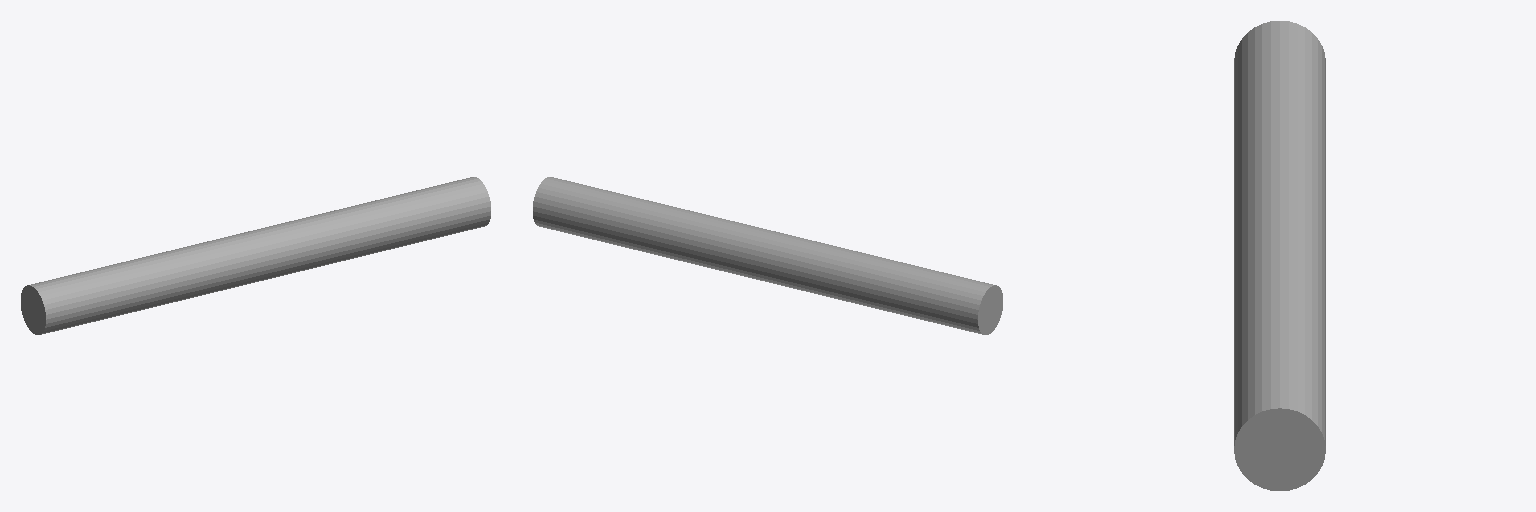
The robot description file, URDF, robot "lbr_iiwa_sdh":
<?xml version="1.0" ?>
<!-- ======================================================================= -->
<!-- | This document was autogenerated by xacro from lbr_iiwa.urdf.xacro   | -->
<!-- | Original xacro: https://github.com/rtkg/lbr_iiwa/archive/master.zip | -->
<!-- | EDITING THIS FILE BY HAND IS NOT RECOMMENDED                        | -->
<!-- | Changes ([author]):                                                 | -->
<!-- |   * Removed gazebo tags.                                            | -->
<!-- |   * Removed unused materials.                                       | -->
<!-- |   * Made mesh paths relative.                                       | -->
<!-- |   * Removed material fields from collision segments.                | -->
<!-- |   * Removed the self_collision_checking segment.                    | -->
<!-- |   * Removed transmission segments, since they didn't match the      | -->
<!-- |     convention, will have to added back later.                      | -->
<!-- ======================================================================= -->
<!--LICENSE:                                                                 -->
<!--Copyright (c) 2015, [author] & [author], AASS Research Center,  -->
<!--Orebro University, Sweden                                                -->
<!--All rights reserved.                                                     -->
<!--                                                                         -->
<!--Redistribution and use in source and binary forms, with or without       -->
<!--modification, are permitted provided that the following conditions are   -->
<!--met:                                                                     -->
<!--                                                                         -->
<!--1. Redistributions of source code must retain the above copyright notice,-->
<!--   this list of conditions and the following disclaimer.                 -->
<!--                                                                         -->
<!--2. Redistributions in binary form must reproduce the above copyright     -->
<!--   notice, this list of conditions and the following disclaimer in the   -->
<!--   documentation and/or other materials provided with the distribution.  -->
<!--                                                                         -->
<!--THIS SOFTWARE IS PROVIDED BY THE COPYRIGHT [author] "AS  -->
<!--IS" AND ANY EXPRESS OR IMPLIED WARRANTIES, INCLUDING, BUT NOT LIMITED TO,-->
<!--THE IMPLIED WARRANTIES OF MERCHANTABILITY AND FITNESS FOR A PARTICULAR   -->
<!--PURPOSE ARE DISCLAIMED. IN NO EVENT SHALL THE COPYRIGHT [author]        -->
<!--CONTRIBUTORS BE LIABLE FOR ANY DIRECT, INDIRECT, INCIDENTAL, SPECIAL,    -->
<!--EXEMPLARY, OR CONSEQUENTIAL DAMAGES (INCLUDING, BUT NOT LIMITED TO,      -->
<!--PROCUREMENT OF SUBSTITUTE GOODS OR SERVICES; LOSS OF USE, DATA, OR       -->
<!--PROFITS; OR BUSINESS INTERRUPTION) HOWEVER CAUSED AND ON ANY THEORY OF   -->
<!--LIABILITY, WHETHER IN CONTRACT, STRICT LIABILITY, OR TORT (INCLUDING     -->
<!--NEGLIGENCE OR OTHERWISE) ARISING IN ANY WAY OUT OF THE USE OF THIS       -->
<!--SOFTWARE, EVEN IF ADVISED OF THE POSSIBILITY OF SUCH DAMAGE.             -->
<robot name="lbr_iiwa_sdh" xmlns:xacro="http://www.ros.org/wiki/xacro">
  <!-- Import Rviz colors -->
  <material name="Grey">
    <color rgba="0.2 0.2 0.2 1.0"/>
  </material>
  <material name="Orange">
    <color rgba="1.0 0.423529411765 0.0392156862745 1.0"/>
  </material>
  <material name="Blue">
  <color rgba="0.5 0.7 1.0 1.0"/>      
</material>

  <!--Import the lbr iiwa macro -->
  <!--Import Transmissions -->
  <!--Include Utilities -->
  <!--The following macros are adapted from the LWR 4 definitions of the RCPRG - https://github.com/RCPRG-ros-pkg/lwr_robot -->
  <!--Little helper macros to define the inertia matrix needed for links.-->
  <!--Cuboid-->
  <!--Cylinder: length is along the y-axis! -->
  <!--lbr-->
  <link name="lbr_iiwa_link_0">
    <inertial>
      <origin rpy="0 0 0" xyz="-0.1 0 0.07"/>
      <!--Increase mass from 5 Kg original to provide a stable base to carry the
          arm.-->
      <mass value="0.0"/>
      <inertia ixx="0.05" ixy="0" ixz="0" iyy="0.06" iyz="0" izz="0.03"/>
    </inertial>
    <visual>
      <origin rpy="0 0 0" xyz="0 0 0"/>
      <geometry>
        <mesh filename="meshes_kuka/link_0.obj"/>
      </geometry>
      <material name="Grey"/>
    </visual>
    <collision>
      <origin rpy="0 0 0" xyz="0 0 0"/>
      <geometry>
        <mesh filename="meshes_kuka/link_0.stl"/>
      </geometry>
    </collision>
  </link>
  <!-- joint between link_0 and link_1 -->
  <joint name="lbr_iiwa_joint_1" type="revolute">
    <parent link="lbr_iiwa_link_0"/>
    <child link="lbr_iiwa_link_1"/>
    <origin rpy="0 0 0" xyz="0 0 0.1575"/>
    <axis xyz="0 0 1"/>
    <limit effort="300" lower="-2.96705972839" upper="2.96705972839" velocity="10"/>
    <dynamics damping="0.5"/>
  </joint>
  <link name="lbr_iiwa_link_1">
    <inertial>
      <origin rpy="0 0 0" xyz="0 -0.03 0.12"/>
      <mass value="4"/>
      <inertia ixx="0.1" ixy="0" ixz="0" iyy="0.09" iyz="0" izz="0.02"/>
    </inertial>
    <visual>
      <origin rpy="0 0 0" xyz="0 0 0"/>
      <geometry>
        <mesh filename="meshes_kuka/link_1.obj"/>
      </geometry>
      <material name="Blue"/>
    </visual>
    <collision>
      <origin rpy="0 0 0" xyz="0 0 0"/>
      <geometry>
        <mesh filename="meshes_kuka/link_1.stl"/>
      </geometry>
    </collision>
  </link>
  <!-- joint between link_1 and link_2 -->
  <joint name="lbr_iiwa_joint_2" type="revolute">
    <parent link="lbr_iiwa_link_1"/>
    <child link="lbr_iiwa_link_2"/>
    <origin rpy="1.57079632679   0 3.14159265359" xyz="0 0 0.2025"/>
    <axis xyz="0 0 1"/>
    <limit effort="300" lower="-2.09439510239" upper="2.09439510239" velocity="10"/>
    <dynamics damping="0.5"/>
  </joint>
  <link name="lbr_iiwa_link_2">
    <inertial>
      <origin rpy="0 0 0" xyz="0.0003 0.059 0.042"/>
      <mass value="4"/>
      <inertia ixx="0.05" ixy="0" ixz="0" iyy="0.018" iyz="0" izz="0.044"/>
    </inertial>
    <visual>
      <origin rpy="0 0 0" xyz="0 0 0"/>
      <geometry>
        <mesh filename="meshes_kuka/link_2.obj"/>
      </geometry>
      <material name="Blue"/>
    </visual>
    <collision>
      <origin rpy="0 0 0" xyz="0 0 0"/>
      <geometry>
        <mesh filename="meshes_kuka/link_2.stl"/>
      </geometry>
    </collision>
  </link>
  <!-- joint between link_2 and link_3 -->
  <joint name="lbr_iiwa_joint_3" type="revolute">
    <parent link="lbr_iiwa_link_2"/>
    <child link="lbr_iiwa_link_3"/>
    <origin rpy="1.57079632679 0 3.14159265359" xyz="0 0.2045 0"/>
    <axis xyz="0 0 1"/>
    <limit effort="300" lower="-2.96705972839" upper="2.96705972839" velocity="10"/>
    <dynamics damping="0.5"/>
  </joint>
  <link name="lbr_iiwa_link_3">
    <inertial>
      <origin rpy="0 0 0" xyz="0 0.03 0.13"/>
      <mass value="3"/>
      <inertia ixx="0.08" ixy="0" ixz="0" iyy="0.075" iyz="0" izz="0.01"/>
    </inertial>
    <visual>
      <origin rpy="0 0 0" xyz="0 0 0"/>
      <geometry>
        <mesh filename="meshes_kuka/link_3.obj"/>
      </geometry>
      <material name="Orange"/>
    </visual>
    <collision>
      <origin rpy="0 0 0" xyz="0 0 0"/>
      <geometry>
        <mesh filename="meshes_kuka/link_3.stl"/>
      </geometry>
    </collision>
  </link>
  <!-- joint between link_3 and link_4 -->
  <joint name="lbr_iiwa_joint_4" type="revolute">
    <parent link="lbr_iiwa_link_3"/>
    <child link="lbr_iiwa_link_4"/>
    <origin rpy="1.57079632679 0 0" xyz="0 0 0.2155"/>
    <axis xyz="0 0 1"/>
    <limit effort="300" lower="-2.09439510239" upper="2.09439510239" velocity="10"/>
    <dynamics damping="0.5"/>
  </joint>
  <link name="lbr_iiwa_link_4">
    <inertial>
      <origin rpy="0 0 0" xyz="0 0.067 0.034"/>
      <mass value="2.7"/>
      <inertia ixx="0.03" ixy="0" ixz="0" iyy="0.01" iyz="0" izz="0.029"/>
    </inertial>
    <visual>
      <origin rpy="0 0 0" xyz="0 0 0"/>
      <geometry>
        <mesh filename="meshes_kuka/link_4.obj"/>
      </geometry>
      <material name="Blue"/>
    </visual>
    <collision>
      <origin rpy="0 0 0" xyz="0 0 0"/>
      <geometry>
        <mesh filename="meshes_kuka/link_4.stl"/>
      </geometry>
    </collision>
  </link>
  <!-- joint between link_4 and link_5 -->
  <joint name="lbr_iiwa_joint_5" type="revolute">
    <parent link="lbr_iiwa_link_4"/>
    <child link="lbr_iiwa_link_5"/>
    <origin rpy="-1.57079632679 3.14159265359 0" xyz="0 0.1845 0"/>
    <axis xyz="0 0 1"/>
    <limit effort="300" lower="-2.96705972839" upper="2.96705972839" velocity="10"/>
    <dynamics damping="0.5"/>
  </joint>
  <link name="lbr_iiwa_link_5">
    <inertial>
      <origin rpy="0 0 0" xyz="0.0001 0.021 0.076"/>
      <mass value="1.7"/>
      <inertia ixx="0.02" ixy="0" ixz="0" iyy="0.018" iyz="0" izz="0.005"/>
    </inertial>
    <visual>
      <origin rpy="0 0 0" xyz="0 0 0"/>
      <geometry>
        <mesh filename="meshes_kuka/link_5.obj"/>
      </geometry>
      <material name="Blue"/>
    </visual>
    <collision>
      <origin rpy="0 0 0" xyz="0 0 0"/>
      <geometry>
        <mesh filename="meshes_kuka/link_5.stl"/>
      </geometry>
    </collision>
  </link>
  <!-- joint between link_5 and link_6 -->
  <joint name="lbr_iiwa_joint_6" type="revolute">
    <parent link="lbr_iiwa_link_5"/>
    <child link="lbr_iiwa_link_6"/>
    <origin rpy="1.57079632679 0 0" xyz="0 0 0.2155"/>
    <axis xyz="0 0 1"/>
    <limit effort="300" lower="-2.09439510239" upper="2.09439510239" velocity="10"/>
    <dynamics damping="0.5"/>
  </joint>
  <link name="lbr_iiwa_link_6">
    <inertial>
      <origin rpy="0 0 0" xyz="0 0.0006 0.0004"/>
      <mass value="1.8"/>
      <inertia ixx="0.005" ixy="0" ixz="0" iyy="0.0036" iyz="0" izz="0.0047"/>
    </inertial>
    <visual>
      <origin rpy="0 0 0" xyz="0 0 0"/>
      <geometry>
        <mesh filename="meshes_kuka/link_6.obj"/>
      </geometry>
      <material name="Orange"/>
    </visual>
    <collision>
      <origin rpy="0 0 0" xyz="0 0 0"/>
      <geometry>
        <mesh filename="meshes_kuka/link_6.stl"/>
      </geometry>
    </collision>
  </link>
  <!-- joint between link_6 and link_7 -->
  <joint name="lbr_iiwa_joint_7" type="revolute">
    <parent link="lbr_iiwa_link_6"/>
    <child link="lbr_iiwa_link_7"/>
    <origin rpy="-1.57079632679 3.14159265359 0" xyz="0 0.081 0"/>
    <axis xyz="0 0 1"/>
    <limit effort="300" lower="-3.05432619099" upper="3.05432619099" velocity="10"/>
    <dynamics damping="0.5"/>
  </joint>
  <link name="lbr_iiwa_link_7">
    <inertial>
      <origin rpy="0 0 0" xyz="0 0 0.02"/>
      <mass value="0.3"/>
      <inertia ixx="0.001" ixy="0" ixz="0" iyy="0.001" iyz="0" izz="0.001"/>
    </inertial>
    <visual>
      <origin rpy="0 0 0" xyz="0 0 0"/>
      <geometry>
        <mesh filename="meshes_kuka/link_7.obj"/>
      </geometry>
      <material name="Grey"/>
    </visual>
    <collision>
      <origin rpy="0 0 0" xyz="0 0 0"/>
      <geometry>
        <mesh filename="meshes_kuka/link_7.stl"/>
      </geometry>
    </collision>
  </link>

  <joint name="gripper_connection" type="fixed">
    <parent link="lbr_iiwa_link_7"/>
    <child link="gripper_pole"/>
    <dynamics damping="1.0" friction="0.0001"/>
    <origin rpy="0.00000 0.00000 0.00000" xyz="0.00000 0.00000 0.03000"/>
    <axis xyz="0.00000 0.00000 1.00000"/>
  </joint>

  <link name="gripper_pole">
    <visual>
      <geometry>
        <cylinder length="0.2" radius=".01"/>
      </geometry>
      <origin rpy="0 1.57075 0 " xyz="0.1 0 0"/>
      <material name="Gray">
        <color rgba=".7 .7 .7 1"/>
      </material>
    </visual>
    <collision>
      <geometry>
        <cylinder length="0.2" radius=".01"/>
      </geometry>
      <origin rpy="0 1.57075 0 " xyz="0.1 0 0"/>
    </collision>
    <inertial>
      <mass value="0.5"/>
      <inertia ixx="1.0" ixy="0.0" ixz="0.0" iyy="1.0" iyz="0.0" izz="1.0"/>
    </inertial>
  </link>

  <joint name="left_gripper_joint" type="revolute">
    <axis xyz="0 0 1"/>
    <limit effort="1000.0" lower="0.0" upper="0.548" velocity="0.5"/>
    <origin rpy="0 0 0" xyz="0.2 0.01 0"/>
    <parent link="gripper_pole"/>
    <child link="left_gripper"/>
  </joint>

  <link name="left_gripper">
    <contact>
      <lateral_friction value="1.0"/>
      <spinning_friction value="1.5"/>
    </contact>
    <visual>
      <origin rpy="0.0 0 0" xyz="0 0 0"/>
      <geometry>
        <mesh filename="l_finger_collision.stl"/>
      </geometry>
    </visual>
    <collision>
      <origin rpy="0.0 0 0" xyz="0 0 0"/>
      <geometry>
        <mesh filename="l_finger_collision.stl"/>
      </geometry>
    </collision>
    <inertial>
      <mass value="0.1"/>
      <inertia ixx="1.0" ixy="0.0" ixz="0.0" iyy="1.0" iyz="0.0" izz="1.0"/>
    </inertial>
  </link>

  <joint name="left_tip_joint" type="fixed">
    <parent link="left_gripper"/>
    <child link="left_tip"/>
  </joint>

  <link name="left_tip">
    <contact>
      <lateral_friction value="1.0"/>
      <spinning_friction value="1.5"/>
    </contact>
    <visual>
      <origin rpy="0.0 0 0" xyz="0.09137 0.00495 0"/>
      <geometry>
        <mesh filename="l_finger_tip.stl"/>
      </geometry>
    </visual>
    <collision>
      <geometry>
        <box size=".03 .01 .02"/>
      </geometry>
      <origin rpy="0.0 0.0 0" xyz="0.105 -0.005 0"/>
    </collision>
    <inertial>
      <mass value="0.1"/>
      <inertia ixx="1.0" ixy="0.0" ixz="0.0" iyy="1.0" iyz="0.0" izz="1.0"/>
    </inertial>
  </link>

  <joint name="right_gripper_joint" type="revolute">
    <axis xyz="0 0 -1"/>
    <limit effort="1000.0" lower="0.0" upper="0.548" velocity="0.5"/>
    <origin rpy="0 0 0" xyz="0.2 -0.01 0"/>
    <parent link="gripper_pole"/>
    <child link="right_gripper"/>
  </joint>

  <link name="right_gripper">
    <contact>
      <lateral_friction value="1.0"/>
      <spinning_friction value="1.5"/>
    </contact>
    <visual>
      <origin rpy="-3.1415 0 0" xyz="0 0 0"/>
      <geometry>
        <mesh filename="l_finger_collision.stl"/>
      </geometry>
    </visual>
         <collision>
      <origin rpy="-3.1415 0 0" xyz="0 0 0"/>
      <geometry>
        <mesh filename="l_finger_collision.stl"/>
      </geometry>
    </collision>
    <inertial>
      <mass value="0.1"/>
      <inertia ixx="1.0" ixy="0.0" ixz="0.0" iyy="1.0" iyz="0.0" izz="1.0"/>
    </inertial>
  </link>

  <joint name="right_tip_joint" type="fixed">
    <parent link="right_gripper"/>
    <child link="right_tip"/>
  </joint>

  <link name="right_tip">
    <contact>
      <lateral_friction value="1.0"/>
      <spinning_friction value="1.5"/>
    </contact>
    <visual>
      <origin rpy="-3.1415 0 0" xyz="0.09137 0.00495 0"/>
      <geometry>
        <mesh filename="l_finger_tip.stl"/>
      </geometry>
    </visual>
    <collision>
      <geometry>
      	<box size=".03 .01 .02"/>
      </geometry>
      <origin rpy="-3.1415 0 0" xyz="0.105 0.015 0"/>
    </collision>
	<collision>
      <geometry>
        <box size=".01 .02 .02"/>
      </geometry>
      <origin rpy="-3.1415 0 -0.5" xyz="0.095 0.005 0"/>
    </collision>

    <inertial>
      <mass value="0.1"/>
      <inertia ixx="1.0" ixy="0.0" ixz="0.0" iyy="1.0" iyz="0.0" izz="1.0"/>
    </inertial>
  </link>
</robot>

--- What the picture shows (computed from the rendered views, not written in the file) ---
3 views of the same robot in one strip: view 1: azimuth 30°, elevation 25°; view 2: azimuth 150°, elevation 25°; view 3: azimuth 270°, elevation 25° (orthographic).
Robot: lbr_iiwa_sdh — 13 links, 12 joints (9 revolute, 3 fixed); root link lbr_iiwa_link_0; default pose: every joint at zero.
Visible links, largest first — view 1: gripper_pole; view 2: gripper_pole; view 3: gripper_pole.
Boxes of the visible links, <box> form: gripper_pole: <box>21,177,490,334</box>; gripper_pole: <box>533,177,1002,334</box>; gripper_pole: <box>1234,21,1325,490</box>.
Bounding box of the posed robot: 0.2 × 0.02 × 0.02 m (x, y, z).
0 mesh visuals loaded from 10 distinct referenced files (none loaded); not drawn: 12 (reference not matched to a file when rendering).